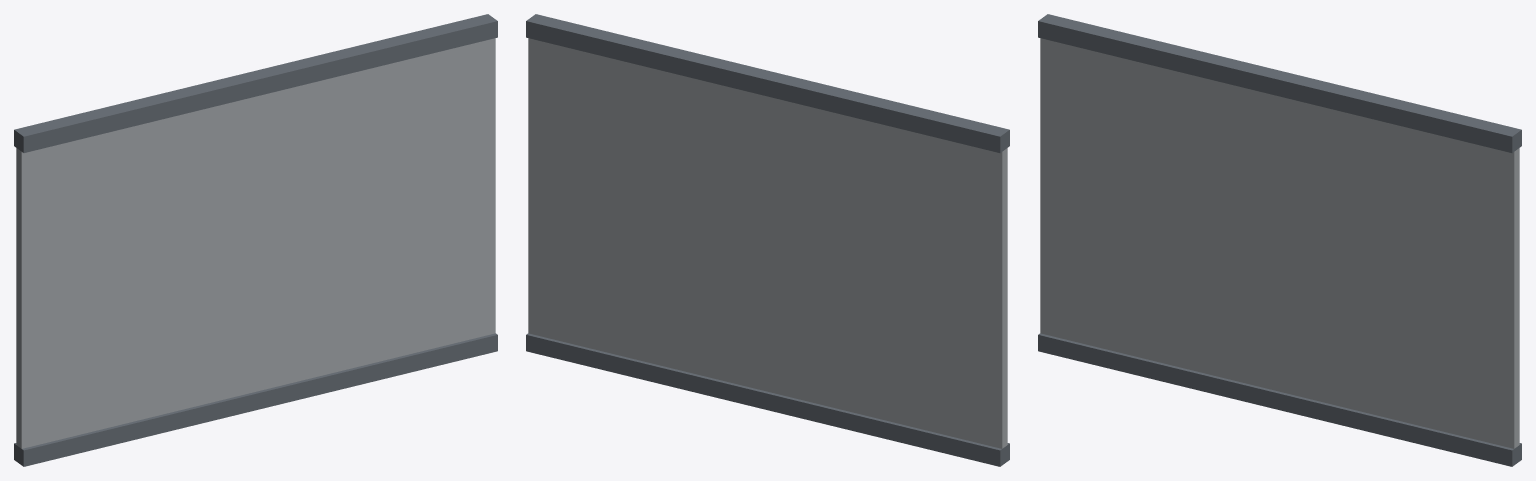
The model's file is CubicalWall_01.FBX.
The picture shows the model from 3 angles, left to right: view 1: azimuth 30°, elevation 25°; view 2: azimuth 150°, elevation 25°; view 3: azimuth 330°, elevation 25°; orthographic projection.
Parts seen in each view (by area): view 1: CubicalWall_01; view 2: CubicalWall_01; view 3: CubicalWall_01.
Boxes of the visible parts, left/top/right/bottom form: CubicalWall_01: left=14, top=14, right=497, bottom=466; CubicalWall_01: left=526, top=14, right=1009, bottom=466; CubicalWall_01: left=1038, top=14, right=1521, bottom=466.
Bounding box in the file's own units: 200 × 133 × 7.06.
